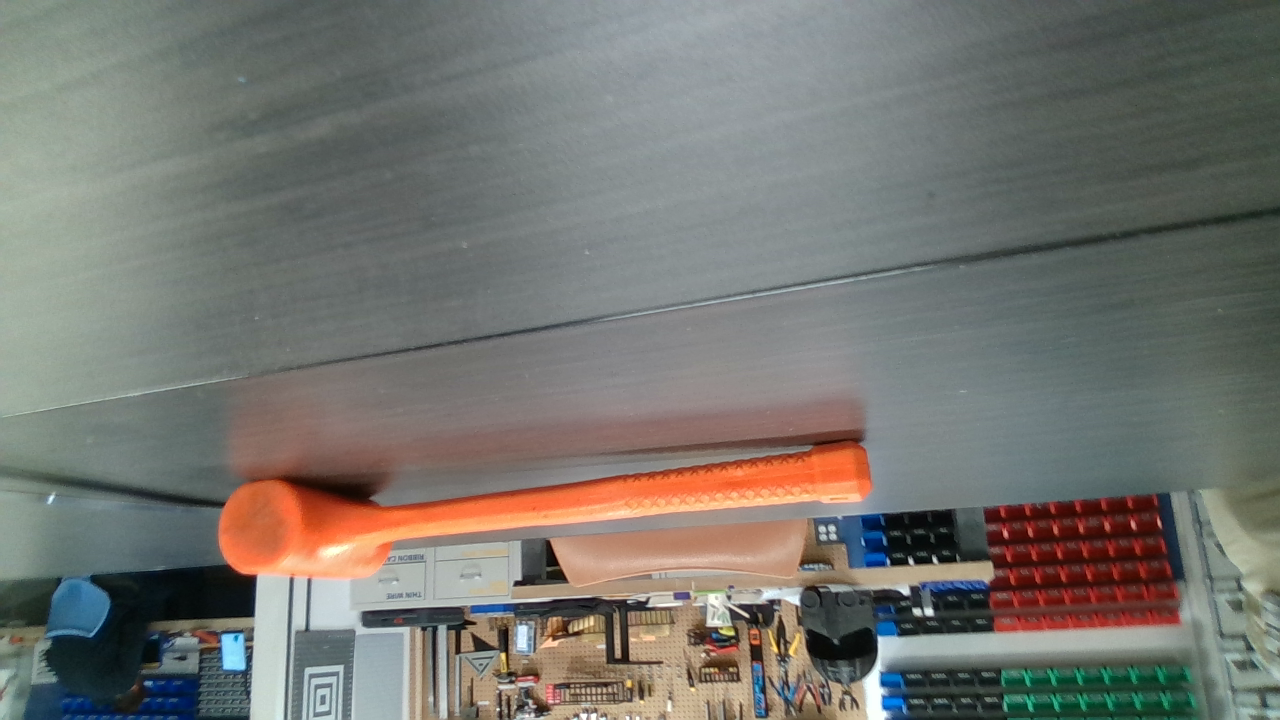Orange Hammer: (225, 436, 871, 578)
